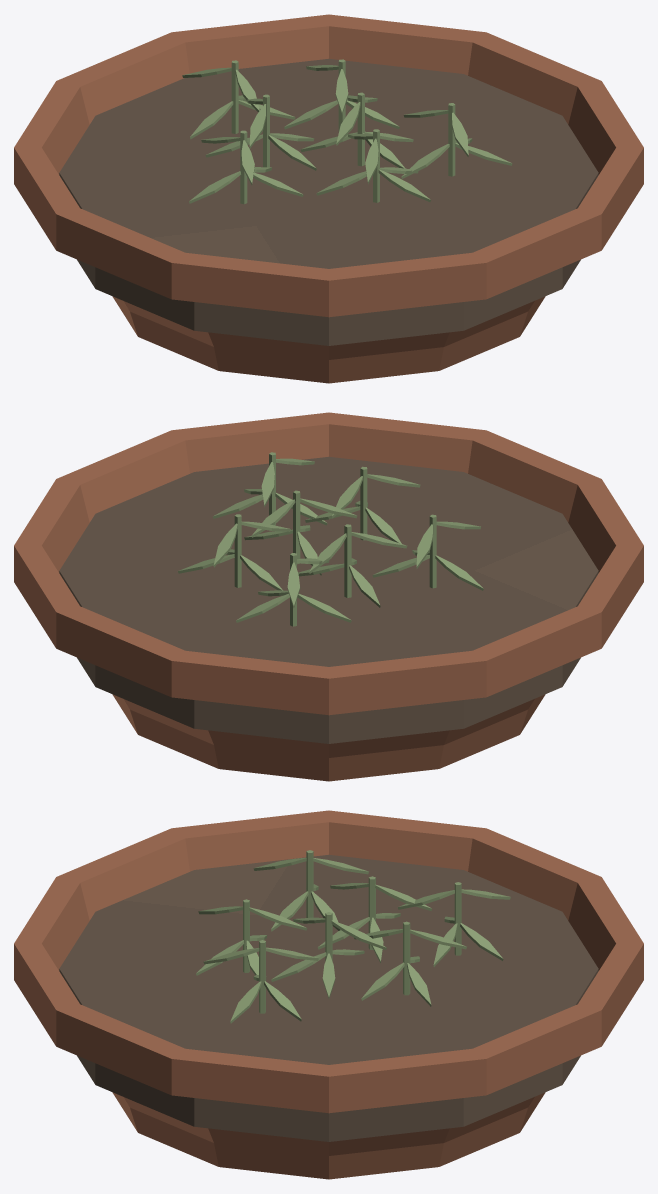
File: moss-squarrosus.glb
The picture shows the model from 3 angles, top to bottom: view 1: azimuth 30°, elevation 25°; view 2: azimuth 150°, elevation 25°; view 3: azimuth 270°, elevation 25°; orthographic projection.
Parts seen in each view (by area): view 1: moss-squarrosus/review-rooted-soil, moss-squarrosus/review-terra-vessel, moss-squarrosus/moss-stem-037; view 2: moss-squarrosus/review-rooted-soil, moss-squarrosus/review-terra-vessel, moss-squarrosus/moss-stem-007, moss-squarrosus/moss-stem-019; view 3: moss-squarrosus/review-rooted-soil, moss-squarrosus/review-terra-vessel, moss-squarrosus/moss-stem-019.
Part boxes in pixels (box(x1,y1,x2,y2)): moss-squarrosus/review-rooted-soil: box(59, 58, 598, 345); moss-squarrosus/review-terra-vessel: box(14, 14, 643, 383); moss-squarrosus/moss-stem-037: box(231, 60, 238, 133); moss-squarrosus/review-rooted-soil: box(59, 456, 598, 743); moss-squarrosus/review-terra-vessel: box(14, 412, 643, 781); moss-squarrosus/moss-stem-007: box(344, 524, 351, 597); moss-squarrosus/moss-stem-019: box(234, 514, 241, 587); moss-squarrosus/review-rooted-soil: box(59, 854, 598, 1141); moss-squarrosus/review-terra-vessel: box(14, 810, 643, 1179); moss-squarrosus/moss-stem-019: box(403, 921, 410, 995).
Bounding box in the file's own units: 0.25 × 0.0825 × 0.25.
Materials: 3 (3 with a texture image).
